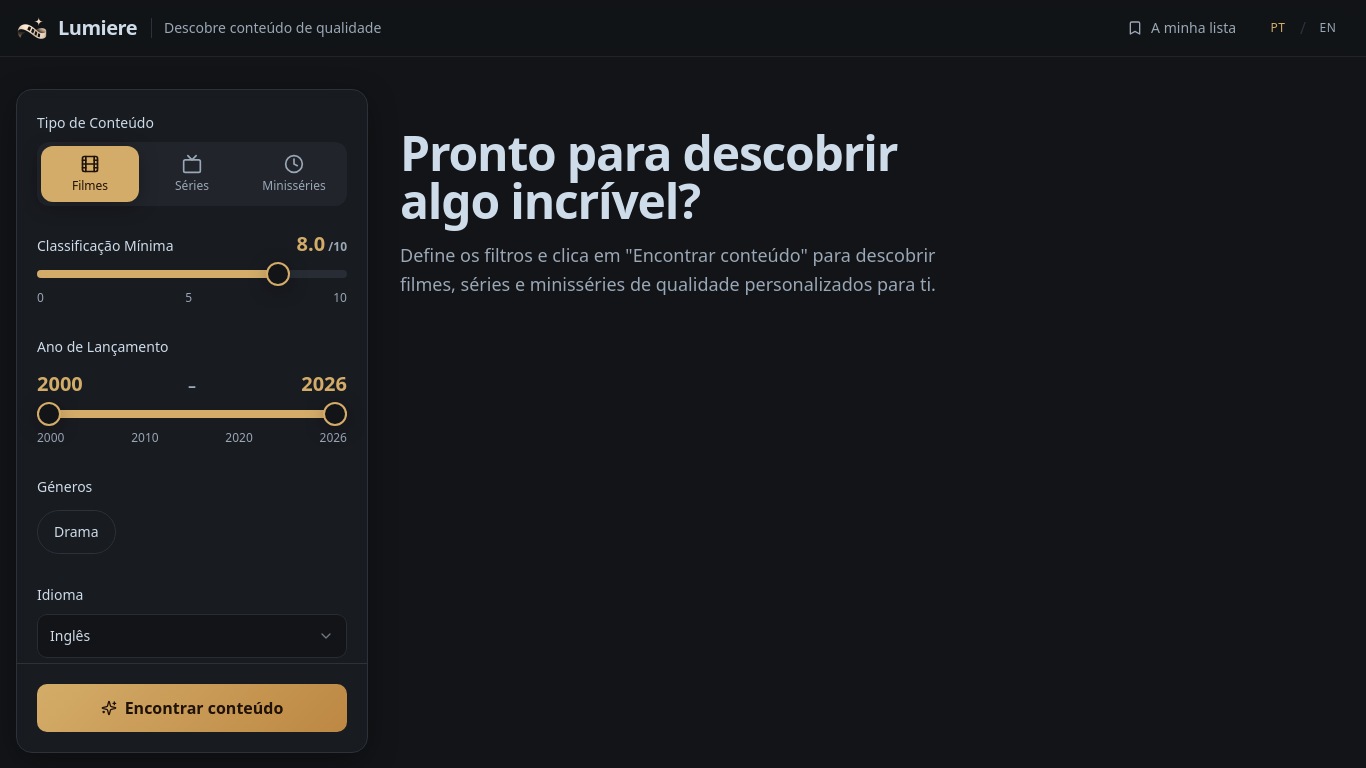
Test: LumiereApp › switches the interface language
Click the button "en" at [1328, 28], box x1=1306 y1=6 x2=1350 y2=50
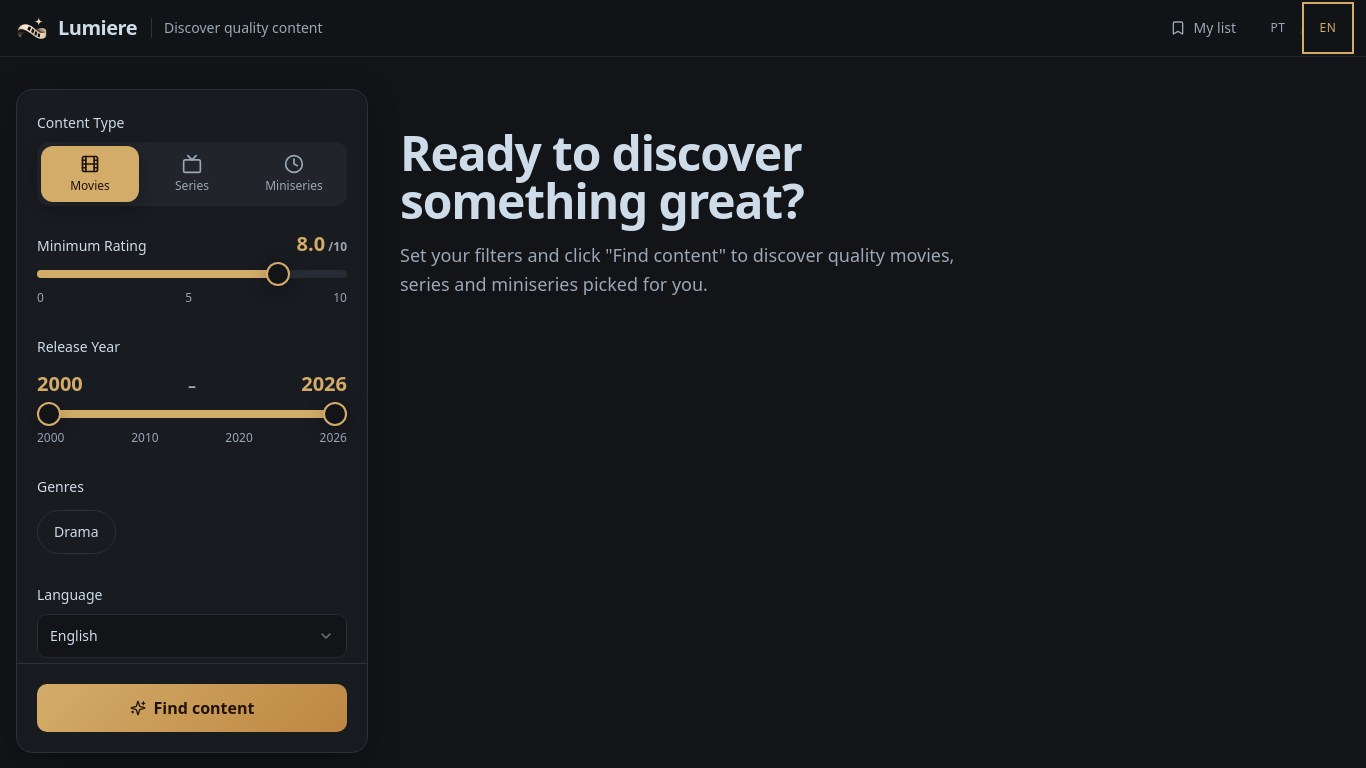
Result: the button "Find content" is shown at x1=37 y1=684 x2=347 y2=732
